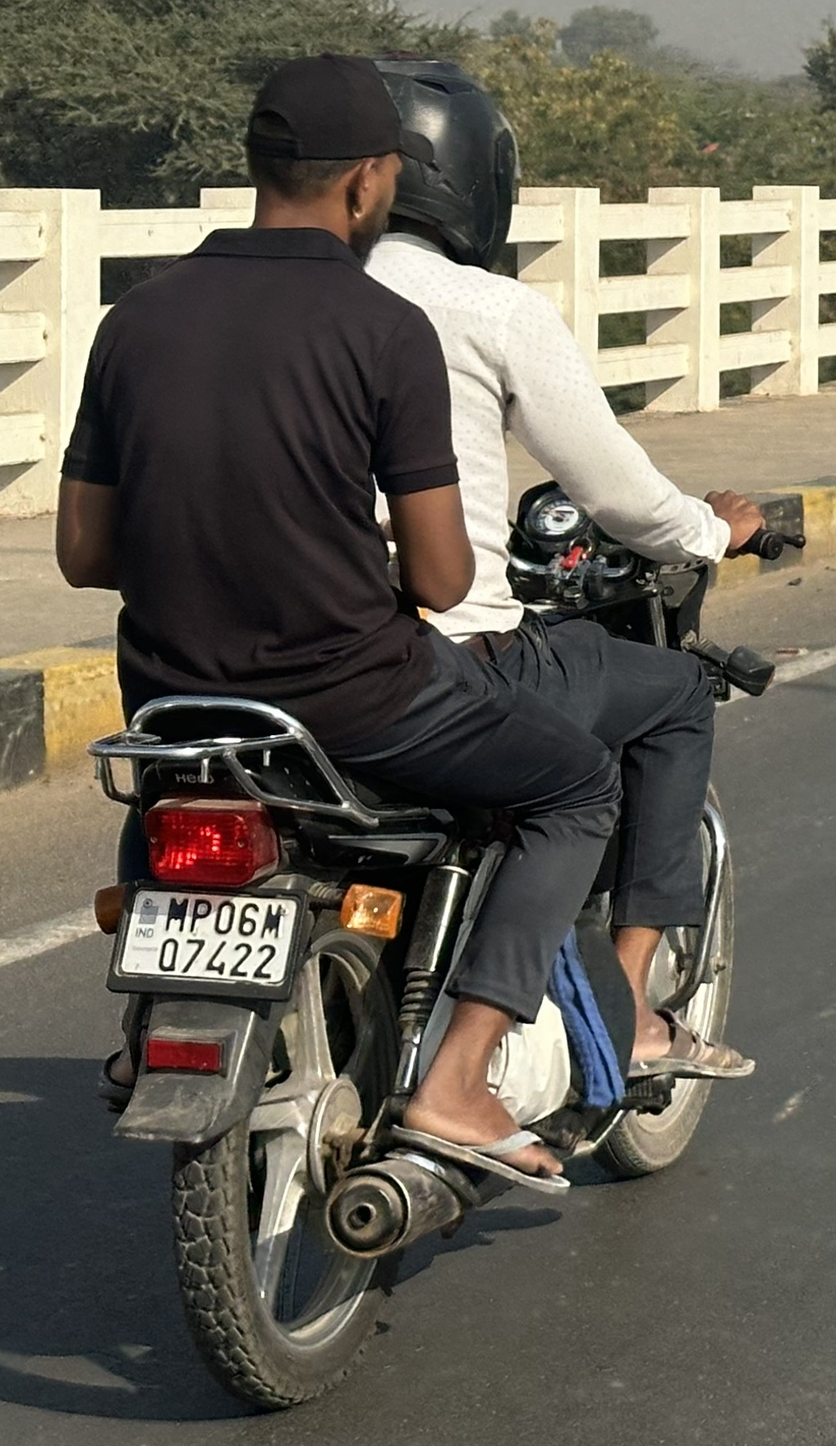BikeWithRider: (36, 38, 820, 1425)
Helmet: (339, 44, 538, 283)
NoHelmet: (221, 39, 419, 262)
